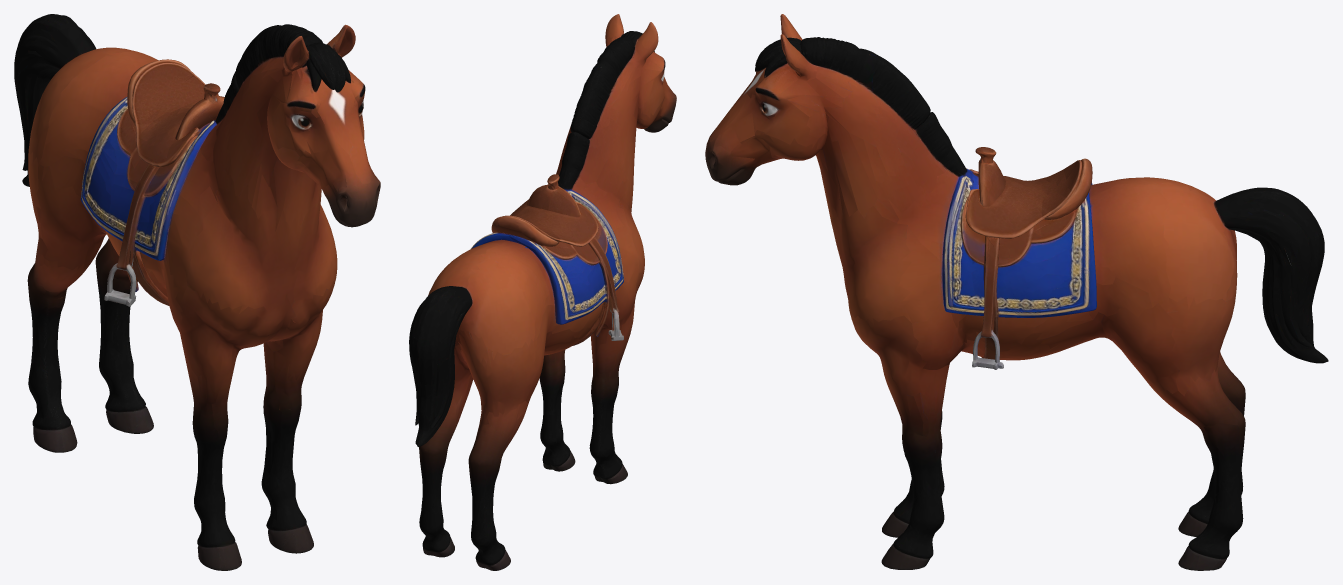
Rendered from horse-1.glb.
The picture shows the model from 3 angles, left to right: view 1: azimuth 30°, elevation 25°; view 2: azimuth 150°, elevation 25°; view 3: azimuth 270°, elevation 25°; orthographic projection. The views are drawn at different scales.
Visible parts, largest first — view 1: output_unwrapped; view 2: output_unwrapped; view 3: output_unwrapped.
Part boxes in pixels (left/top/right/bottom): output_unwrapped: left=14, top=14, right=380, bottom=570; output_unwrapped: left=409, top=14, right=676, bottom=570; output_unwrapped: left=705, top=14, right=1328, bottom=570.
Size of the model in its own units: 0.6768 by 1.85 by 2.
1 material, 1 textured.
